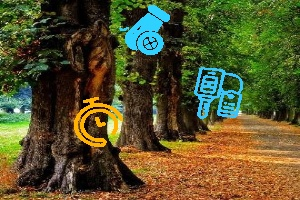人大钥匙: (195, 66, 242, 120)
大炮: (118, 5, 168, 54)
时钟: (73, 97, 126, 146)
